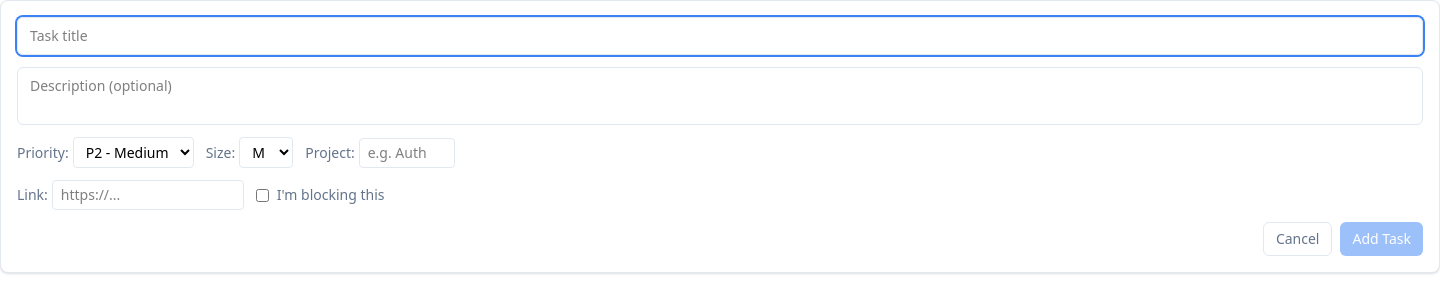
Test: TaskForm › shows spinner while submitting
Type "Slow task" into the field labelled "Task title" at (720, 36), box [17,17,1423,55]
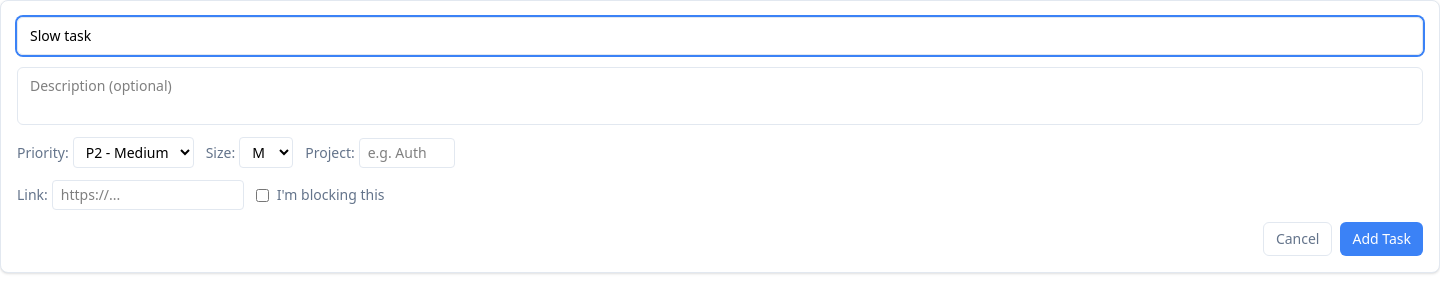
Click the button "Add Task" at (1382, 239), box [1340,222,1423,256]
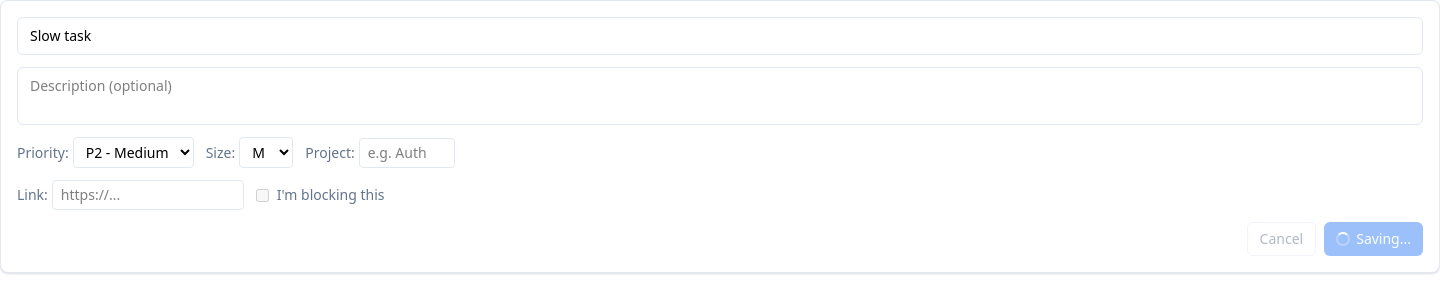
Now the text "Saving..." is shown, box [1336,229,1411,249]
